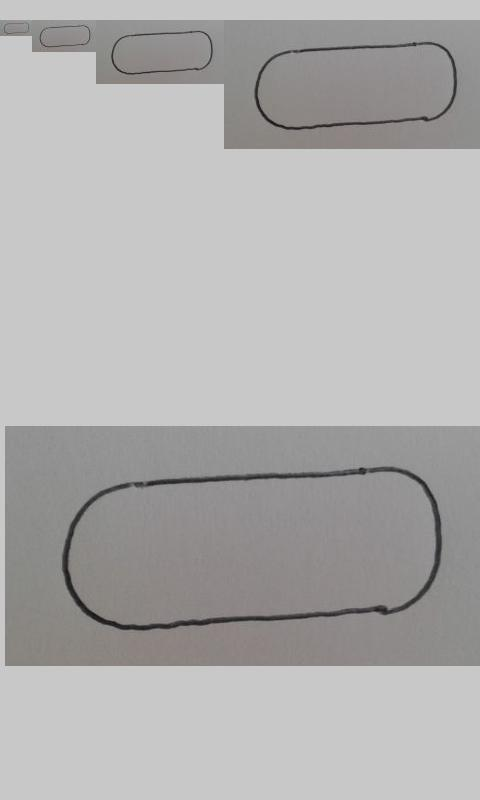chip: (63, 465, 443, 633), (254, 41, 458, 130), (111, 30, 214, 75), (39, 25, 91, 48), (3, 22, 30, 35)
